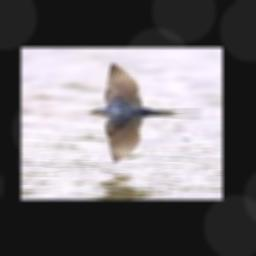Swallow: (87, 63, 203, 163)
